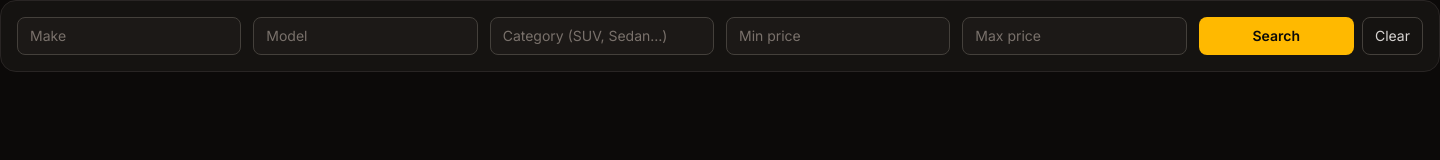
Test case: SearchBar › clears every filter when Clear is clicked
In the field labelled "Make": (129, 36) x1=17 y1=17 x2=241 y2=55, type "Honda"
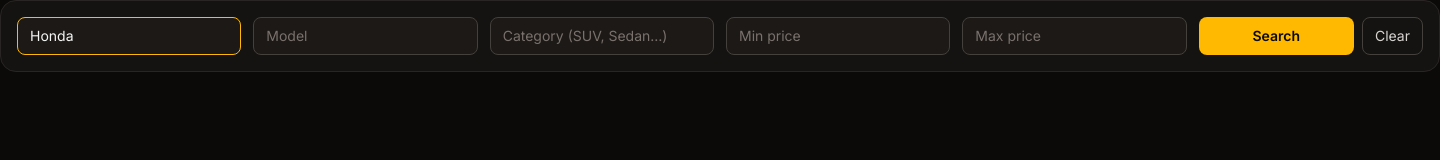
Click the button "Clear": (1392, 36) x1=1362 y1=17 x2=1423 y2=55
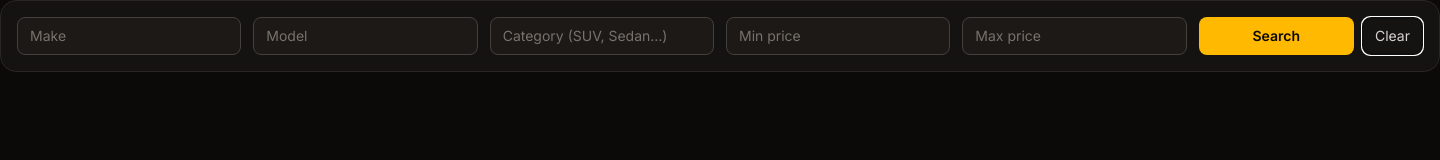
Expected: the field labelled "Make" is empty, x1=17 y1=17 x2=241 y2=55
